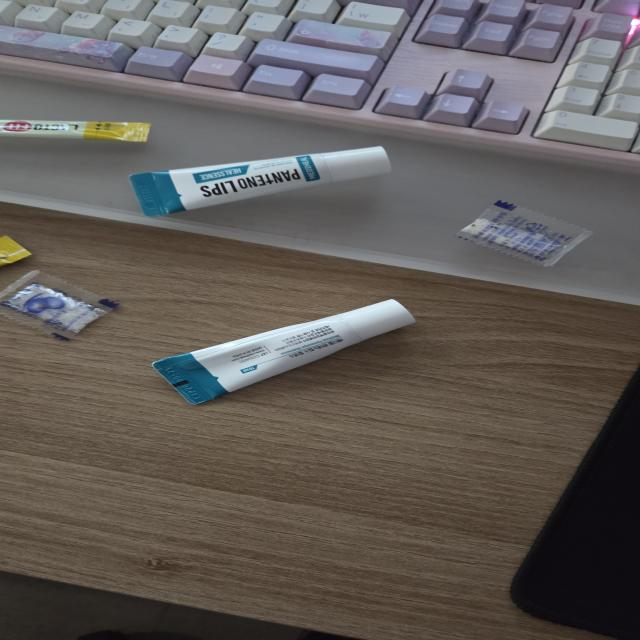lacto: (0, 111, 162, 146), (0, 226, 39, 274)
lip: (146, 290, 430, 414), (121, 144, 404, 224)
salt: (434, 187, 606, 283), (0, 261, 132, 347)
